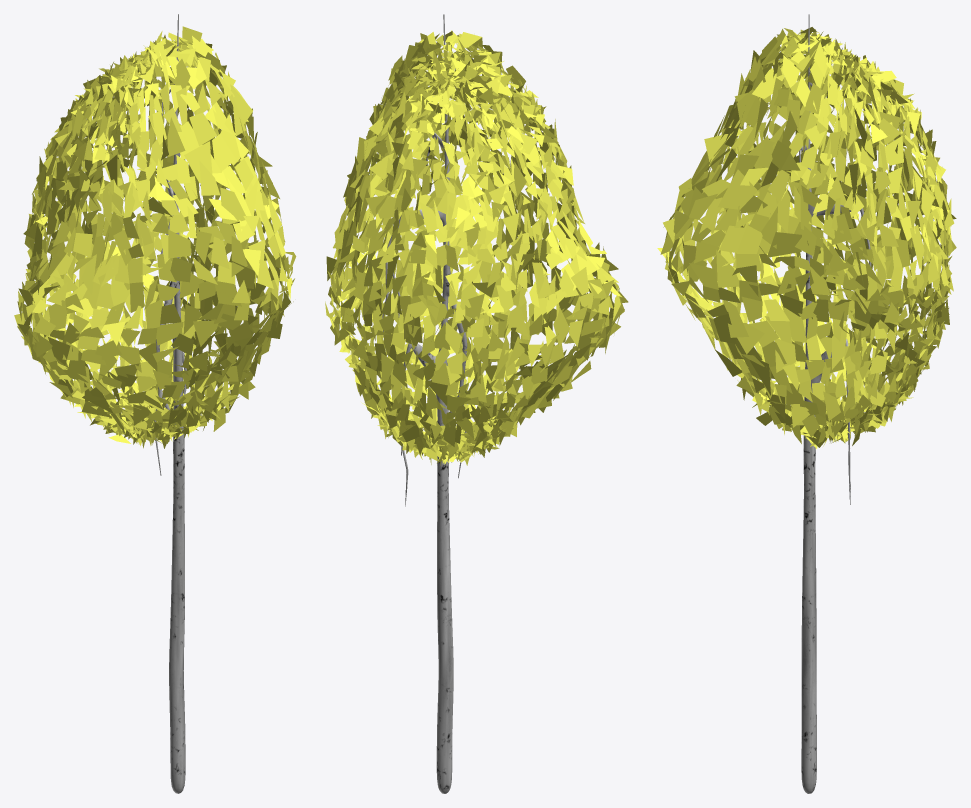
The model's file is Leaves34.002.fbx.
The picture shows the model from 3 angles, left to right: view 1: azimuth 30°, elevation 25°; view 2: azimuth 150°, elevation 25°; view 3: azimuth 270°, elevation 25°; orthographic projection.
Visible parts, largest first — view 1: Leaves34.002; view 2: Leaves34.002; view 3: Leaves34.002.
Part boxes in pixels (box(x1,y1,x2,y2)): Leaves34.002: box(14, 14, 296, 793); Leaves34.002: box(325, 14, 628, 793); Leaves34.002: box(657, 14, 956, 793).
Size of the model in its own units: 859 by 2574 by 896.
Materials: 2 (1 with a texture image).
